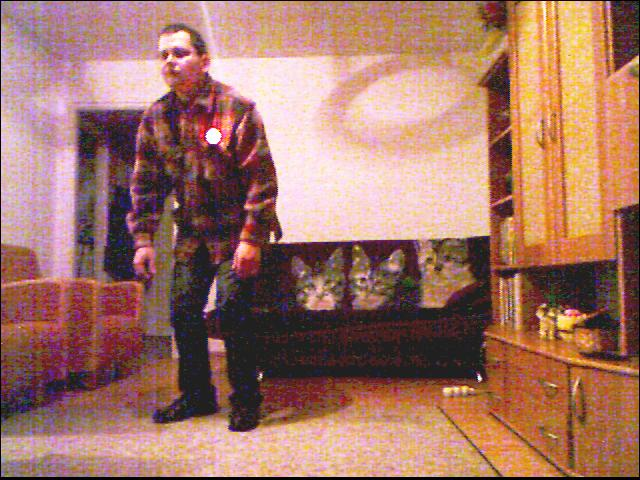bending: (122, 18, 293, 438)
